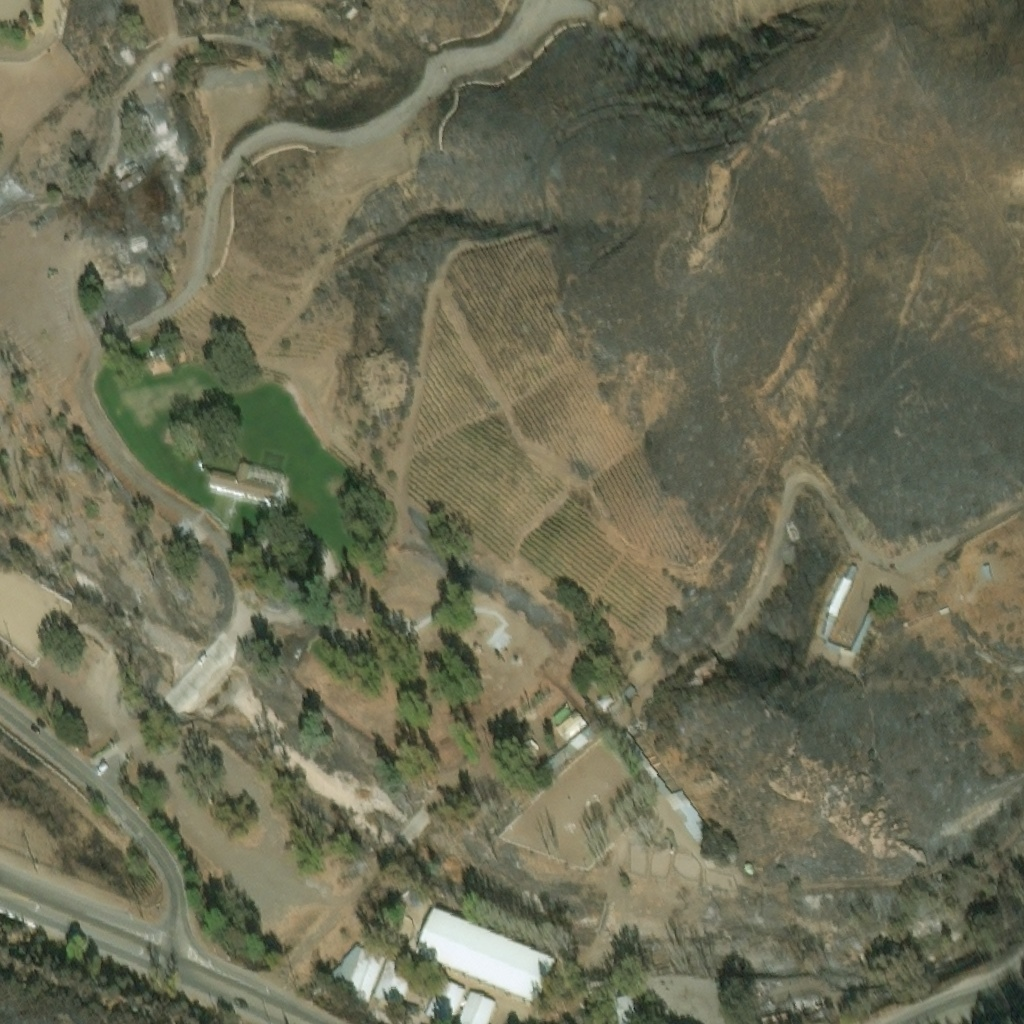0 no-damage: (611, 712, 720, 854), (413, 906, 557, 1004), (819, 559, 878, 657), (537, 711, 606, 775), (206, 454, 288, 506), (325, 941, 383, 997), (369, 952, 412, 1002), (421, 975, 464, 1021), (678, 645, 716, 686), (453, 987, 495, 1023), (142, 338, 187, 371), (554, 705, 583, 735), (616, 997, 637, 1023), (550, 700, 569, 718), (782, 512, 797, 532), (618, 678, 635, 695), (366, 1000, 385, 1015), (981, 561, 993, 580), (593, 688, 608, 703), (403, 997, 416, 1010), (938, 604, 951, 615)
3 destroyed: (751, 995, 792, 1020), (791, 991, 821, 1012), (116, 165, 145, 186), (127, 228, 146, 243)
4 un-classified: (381, 602, 420, 638), (726, 849, 744, 863), (641, 687, 651, 697), (675, 839, 685, 848), (638, 696, 645, 705)
